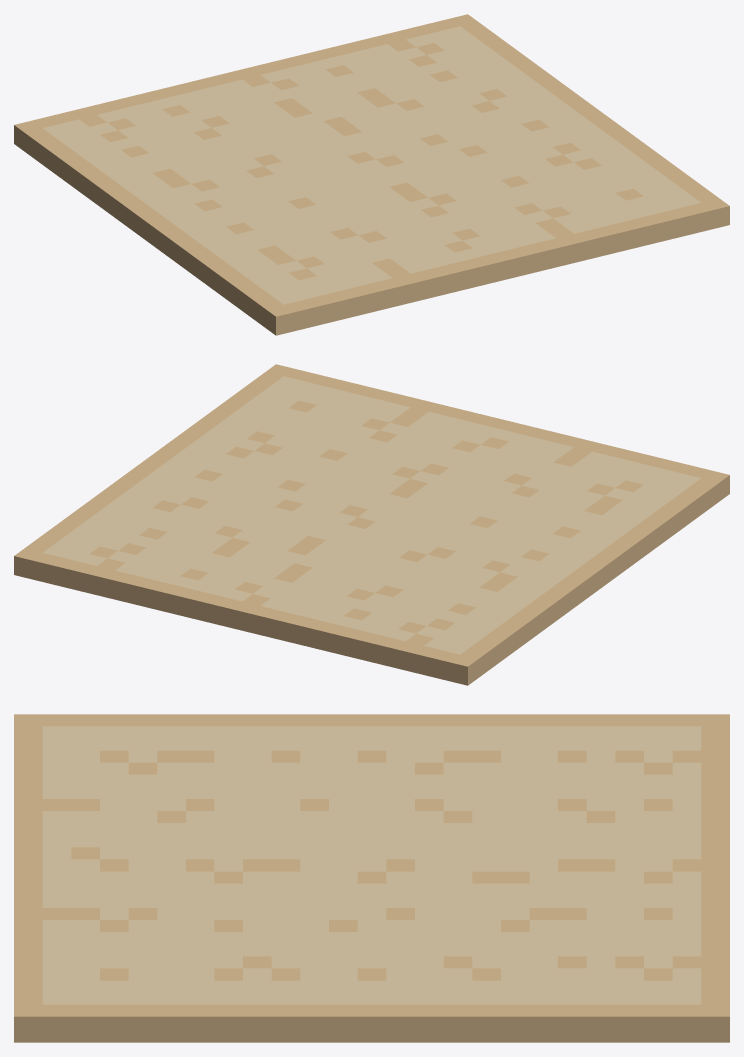
File: ceiling_tile.obj
3 views of the same model, one above another, from view 1: azimuth 30°, elevation 25°; view 2: azimuth 150°, elevation 25°; view 3: azimuth 270°, elevation 25° (orthographic). The views are drawn at different scales.
Bounding box in the file's own units: 25 × 1 × 25.
1 material, 1 textured.
